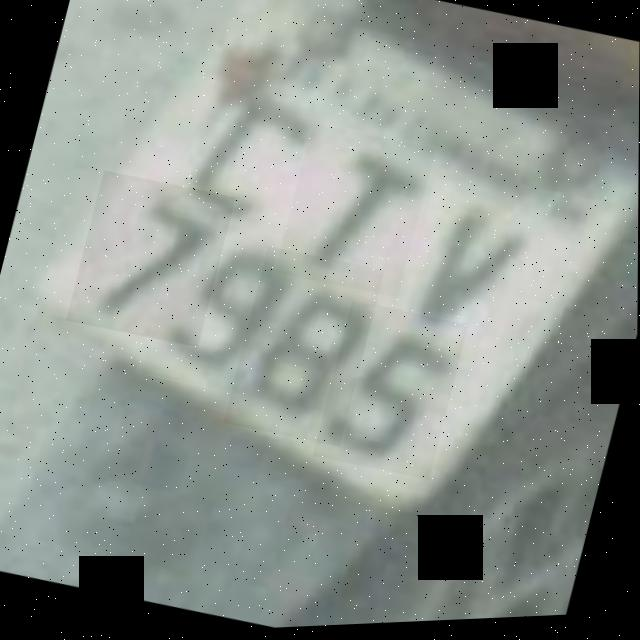5: (313, 300, 469, 489)
7: (66, 167, 236, 354)
8: (223, 245, 384, 455)
9: (142, 201, 308, 405)
N: (397, 178, 537, 359)
T: (275, 122, 436, 305)
